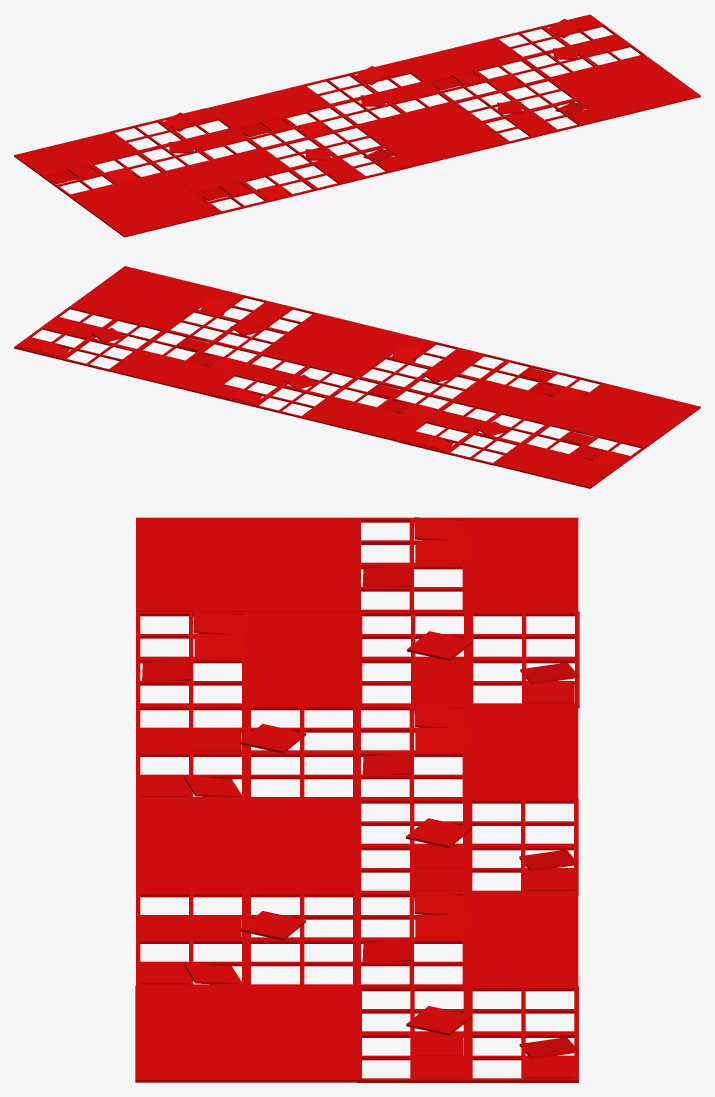
Rendered from Warehouse_01_DCeiling_01.fbx.
3 renders of one model, top to bottom at view 1: azimuth 30°, elevation 25°; view 2: azimuth 150°, elevation 25°; view 3: azimuth 270°, elevation 25°, orthographic. The views are drawn at different scales.
Parts seen in each view (by area): view 1: Warehouse_01_DCeiling_01; view 2: Warehouse_01_DCeiling_01; view 3: Warehouse_01_DCeiling_01.
Boxes of the visible parts, box(x1,y1,x2,y2) form: Warehouse_01_DCeiling_01: box(14, 14, 700, 237); Warehouse_01_DCeiling_01: box(14, 266, 700, 488); Warehouse_01_DCeiling_01: box(135, 517, 579, 1082).
Bounding box in the file's own units: 1800 × 15.95 × 601.
